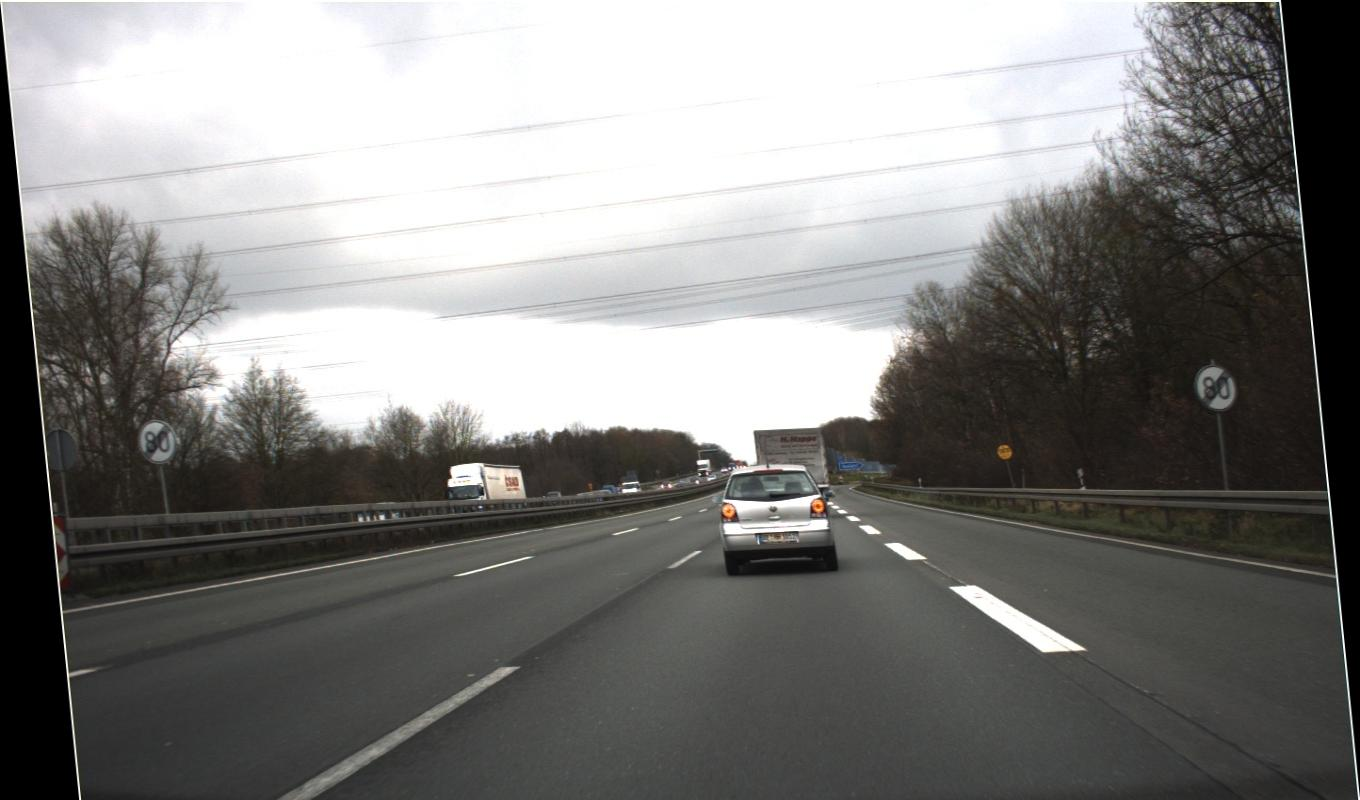restriction ends 80: (133, 364, 1238, 463)
